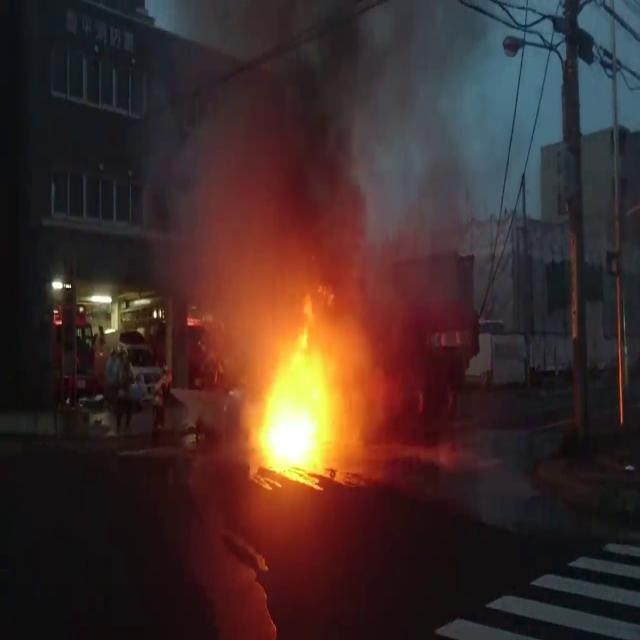fire: (206, 92, 322, 295), (271, 372, 330, 456)
